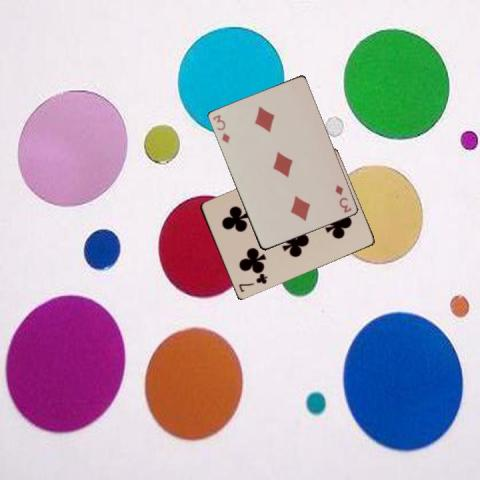3d: (210, 111, 231, 145), (332, 182, 353, 214)
7c: (235, 272, 269, 293)
